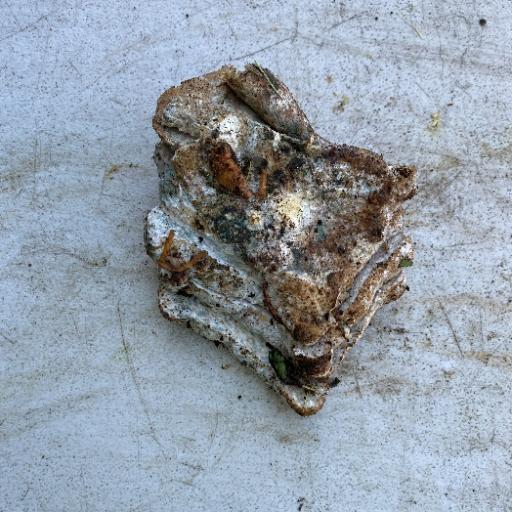Waste: (143, 61, 418, 417)
